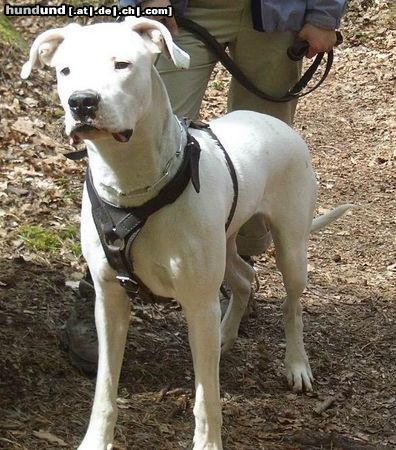dogo_argentino: (20, 15, 352, 450)
person: (61, 2, 347, 372)
